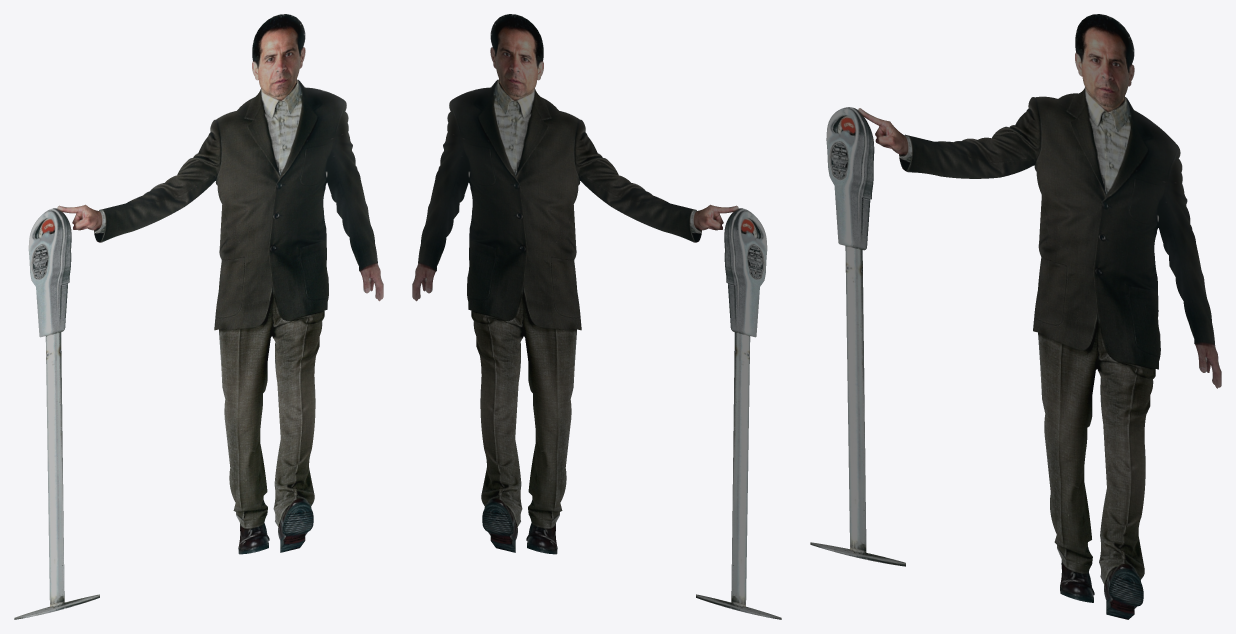
3 views of the same model, side by side, from view 1: azimuth 30°, elevation 25°; view 2: azimuth 150°, elevation 25°; view 3: azimuth 330°, elevation 25° (orthographic). The views are drawn at different scales.
Parts seen in each view (by area): view 1: Composant_3; view 2: Composant_3; view 3: Composant_3.
Part boxes in pixels (x1,y1,x2,y2): Composant_3: (14,14,383,619); Composant_3: (412,14,781,619); Composant_3: (810,14,1221,619).
Size of the model in its own units: 49.88 by 1.71e-13 by 69.92.
Materials: 2 (1 with a texture image).
